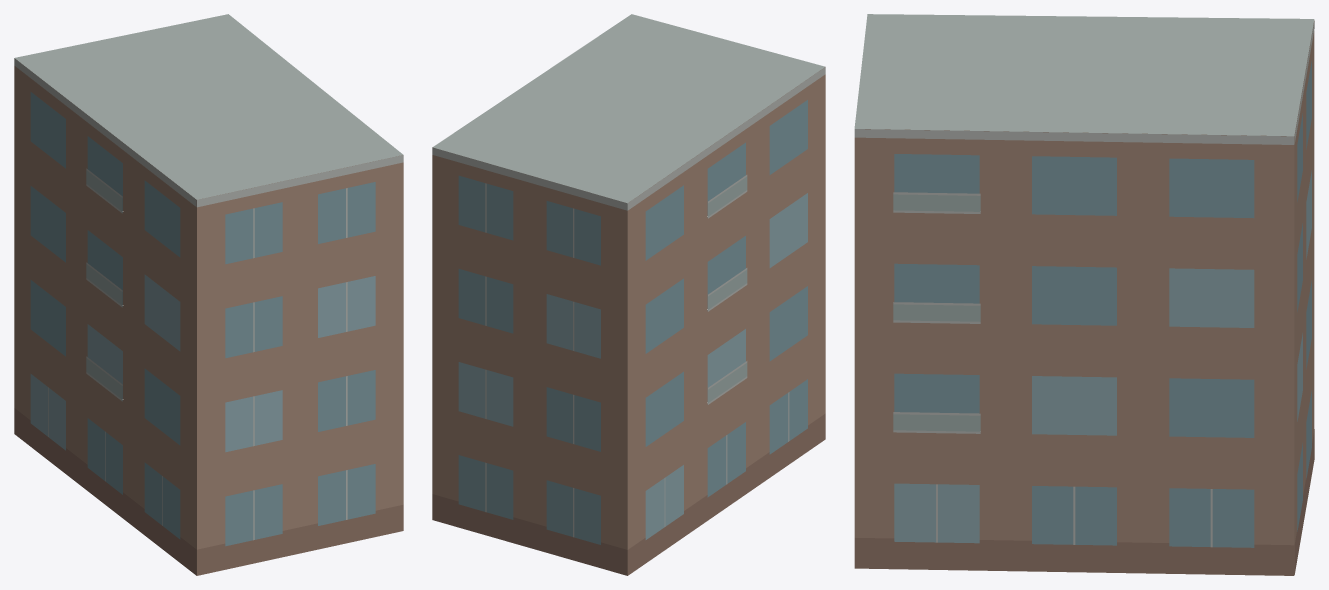
Rendered from survey-upis-32808344.glb.
3 views of the same model, side by side, from view 1: azimuth 30°, elevation 25°; view 2: azimuth 150°, elevation 25°; view 3: azimuth 270°, elevation 25° (orthographic). The views are drawn at different scales.
Visible parts, largest first — view 1: survey-upis-32808344.tmp; view 2: survey-upis-32808344.tmp; view 3: survey-upis-32808344.tmp.
Boxes of the visible parts, <box> form: survey-upis-32808344.tmp: <box>14,14,403,575</box>; survey-upis-32808344.tmp: <box>432,14,825,575</box>; survey-upis-32808344.tmp: <box>854,14,1314,575</box>.
Bounding box in the file's own units: 7.28 × 12.2 × 11.58.
